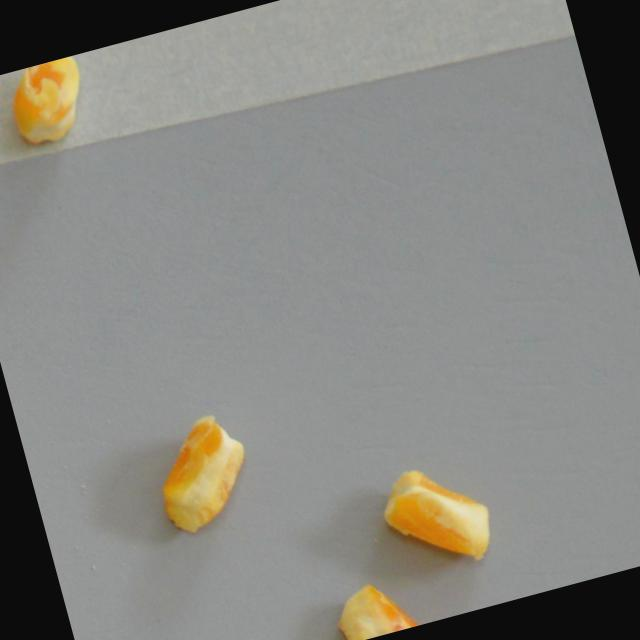dañado: (323, 563, 440, 640)
pelicula: (369, 445, 501, 582), (138, 404, 263, 540), (0, 54, 97, 155)
